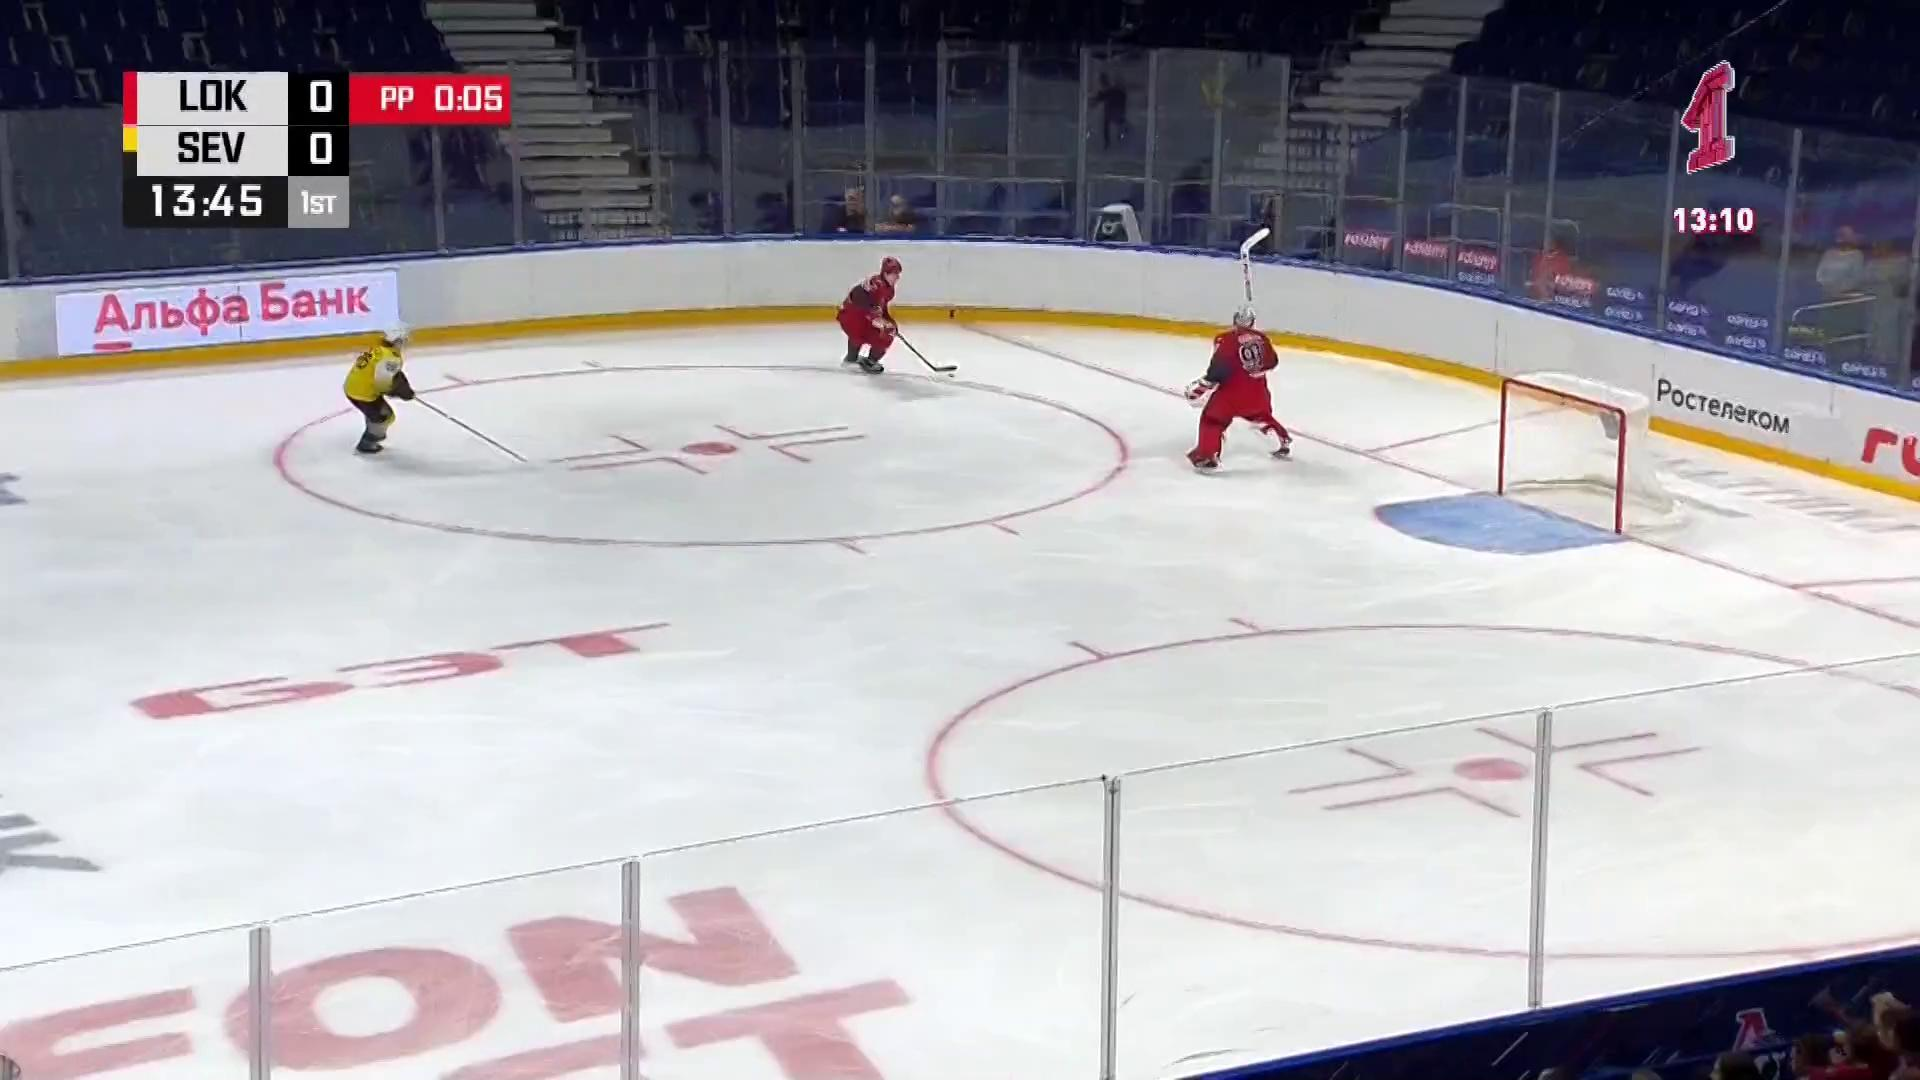ball: (948, 373, 956, 378)
